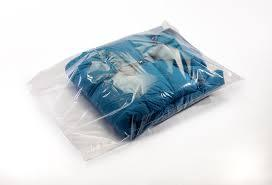Zip plastic bag: (32, 19, 256, 169)
